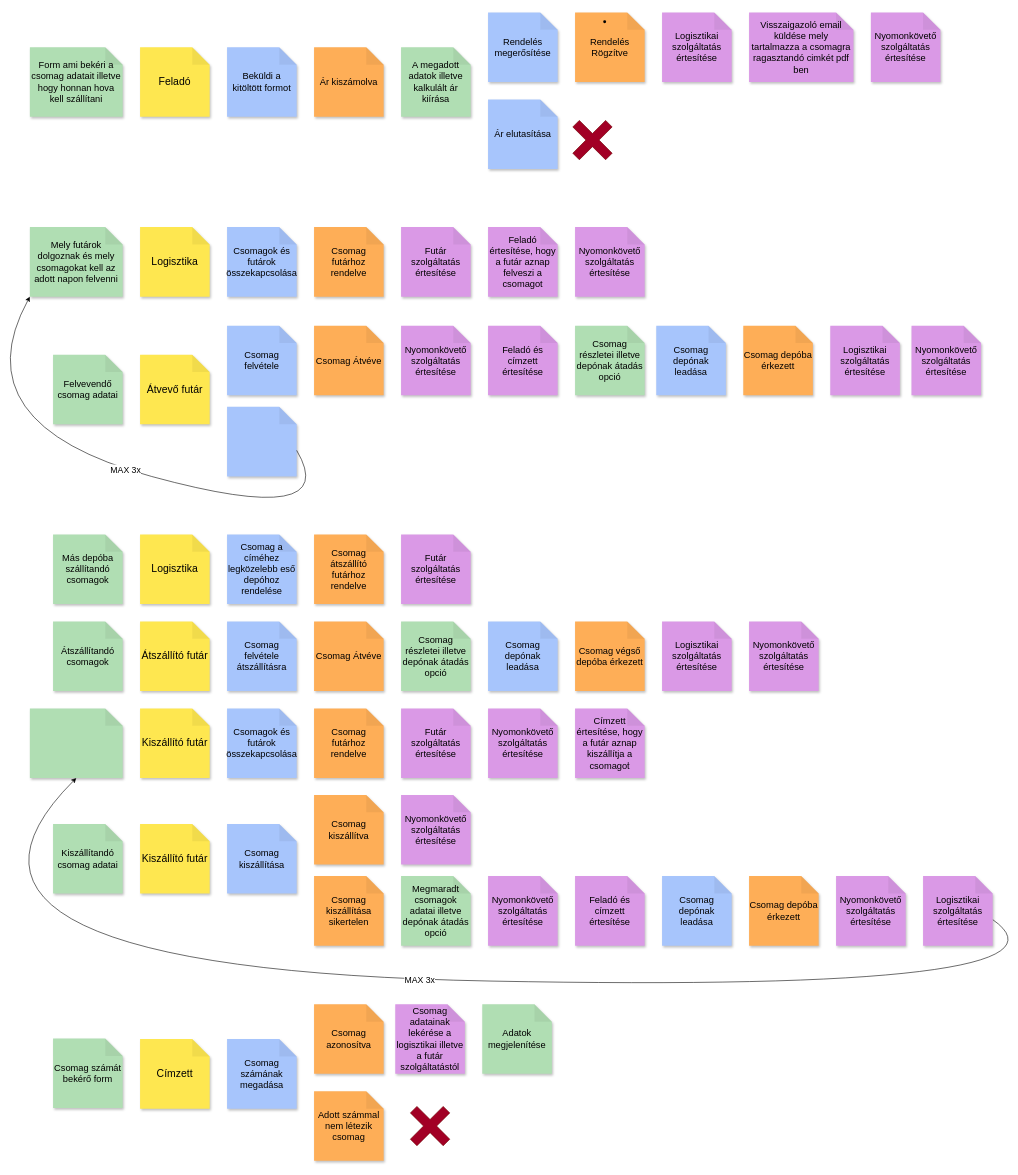
This 1018x1175 diagram has some shape labels left out. Each missing label, with the centre of its shape:
"Mely futárok dolgoznak és mely csomagokat kell az adott napon kiszállítani" belongs at point 76,744.
"Sikertelen felvétel" belongs at point 262,442.
